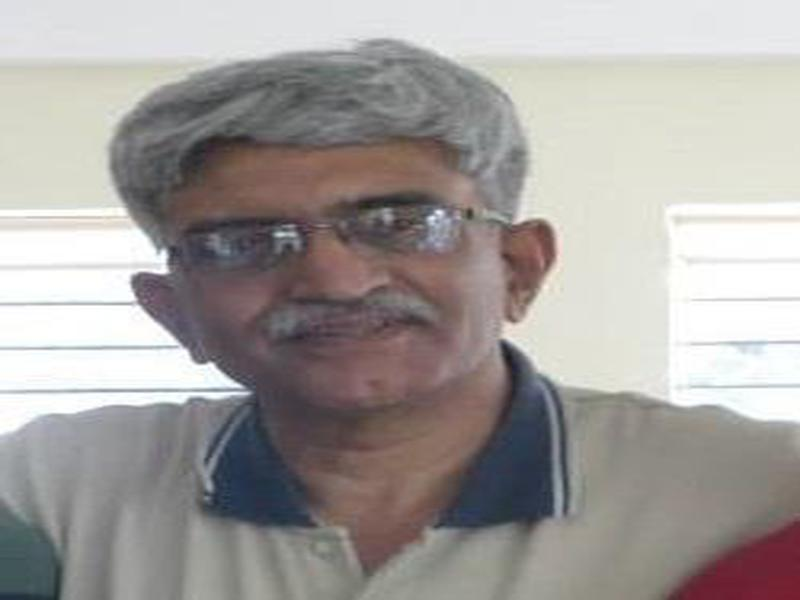without_mask: (157, 157, 500, 416)
